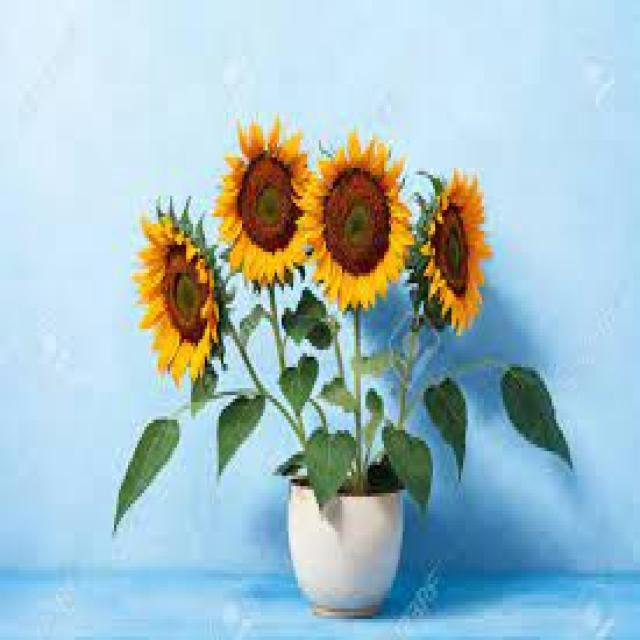sunflower: (296, 132, 414, 312), (212, 112, 312, 287), (130, 213, 220, 384), (416, 167, 492, 336)
